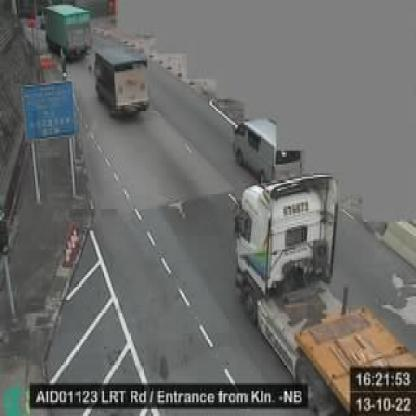Car: (235, 114, 304, 190)
Truck: (232, 172, 416, 407), (92, 44, 152, 120), (43, 2, 91, 60)
